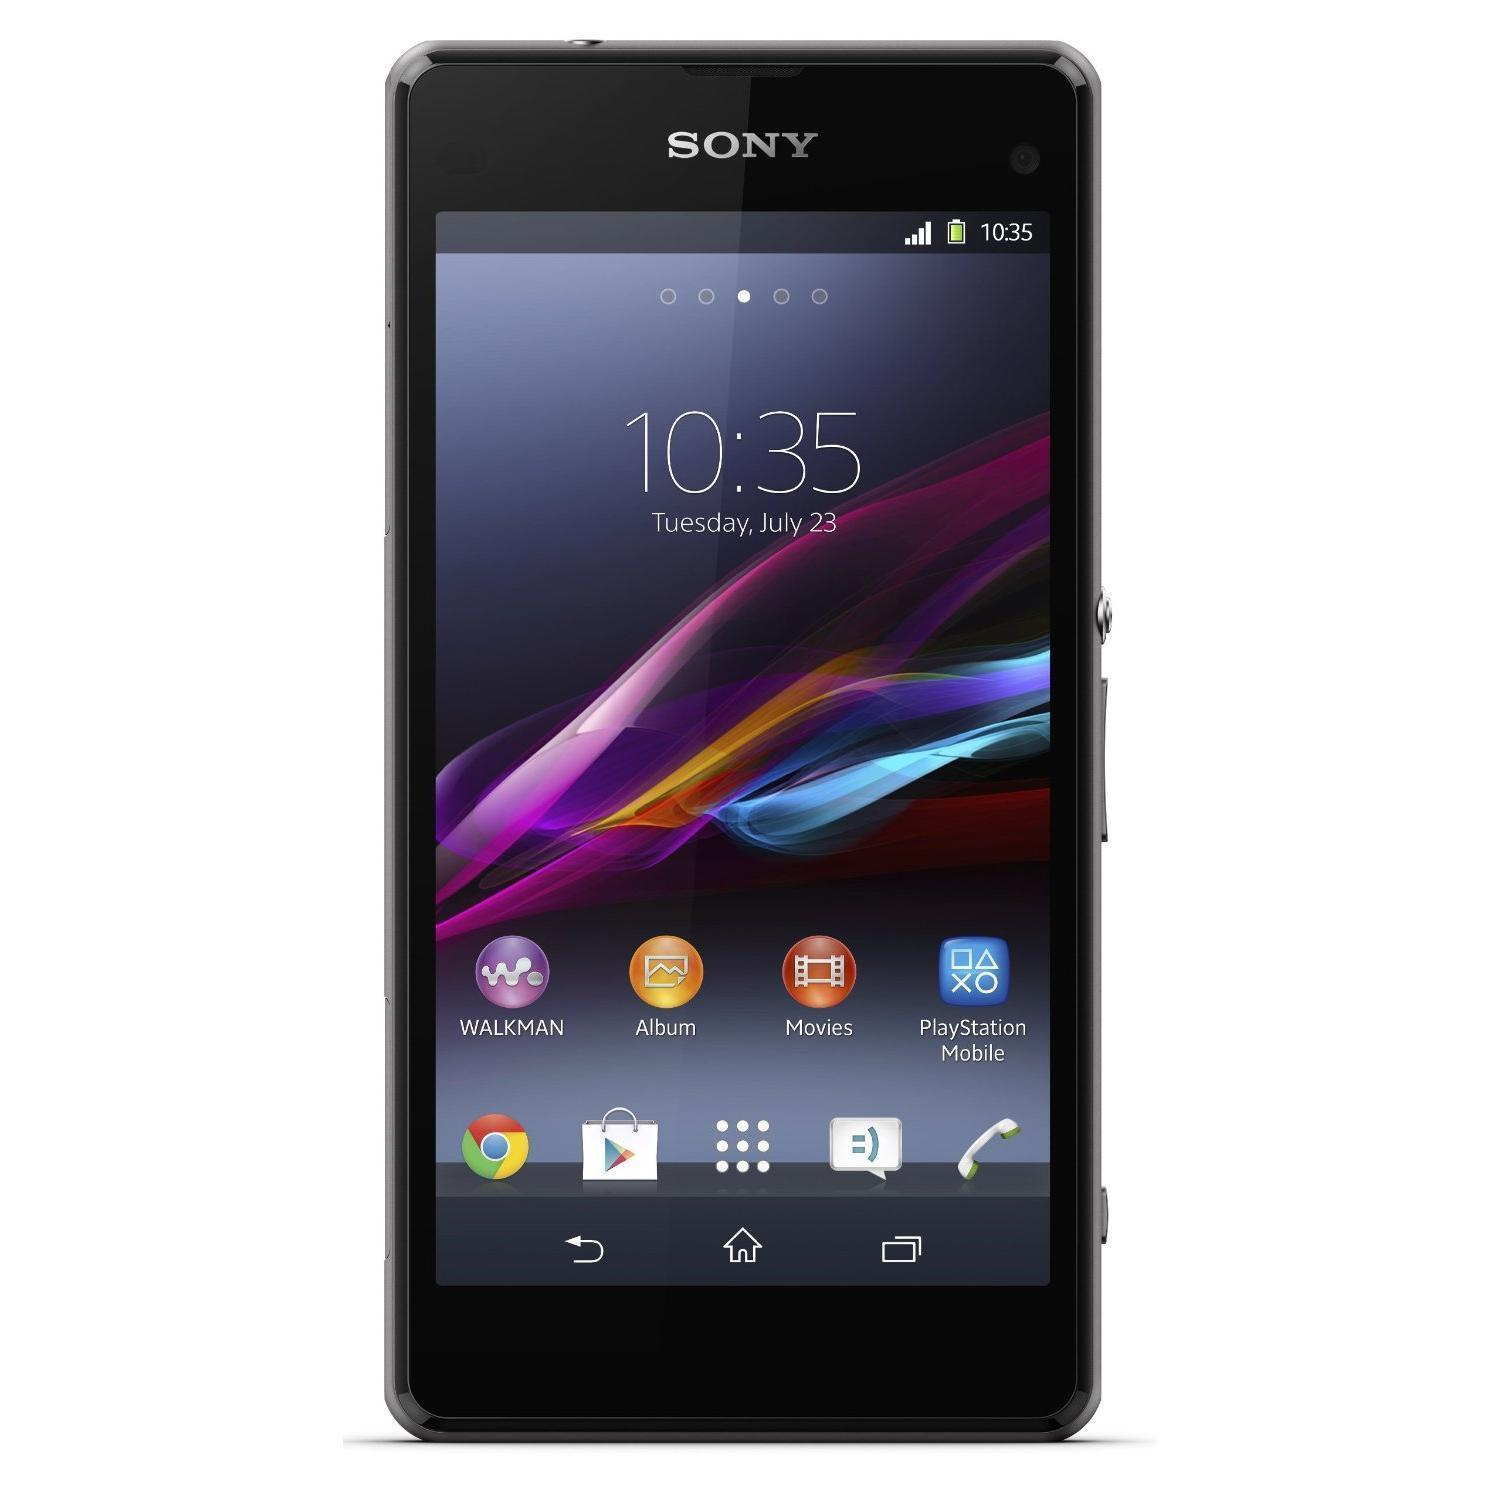smartphone: (385, 40, 1114, 1442)
